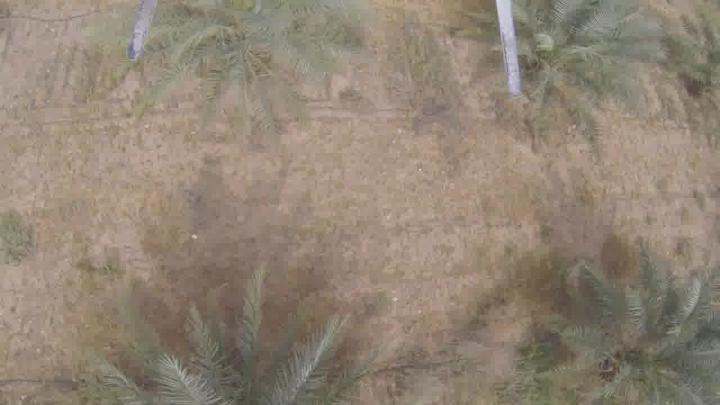Date-Palm-Crown: (134, 291, 332, 405), (483, 0, 645, 110), (572, 287, 720, 405), (138, 0, 318, 84), (680, 12, 720, 122)
